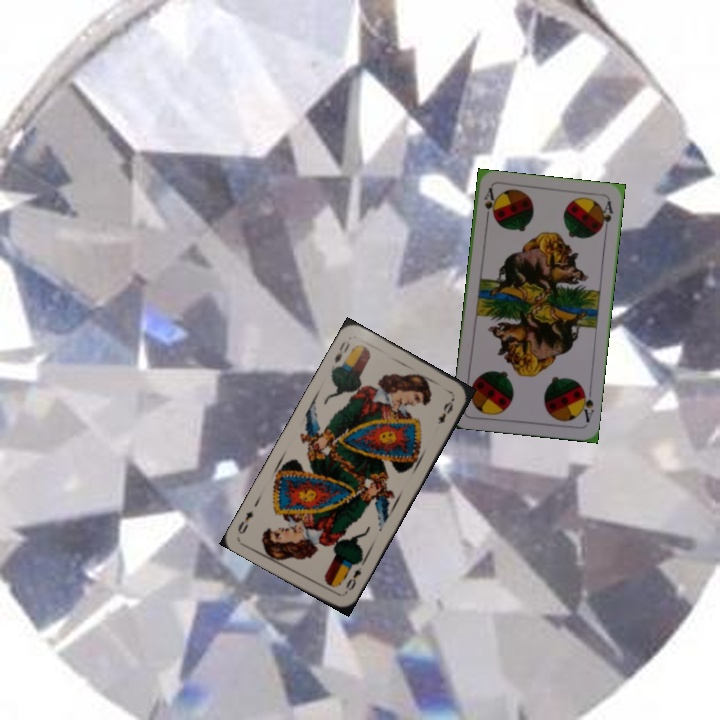EO: (341, 563, 364, 596), (330, 337, 352, 366)
SA: (576, 384, 596, 425), (480, 185, 497, 225)
